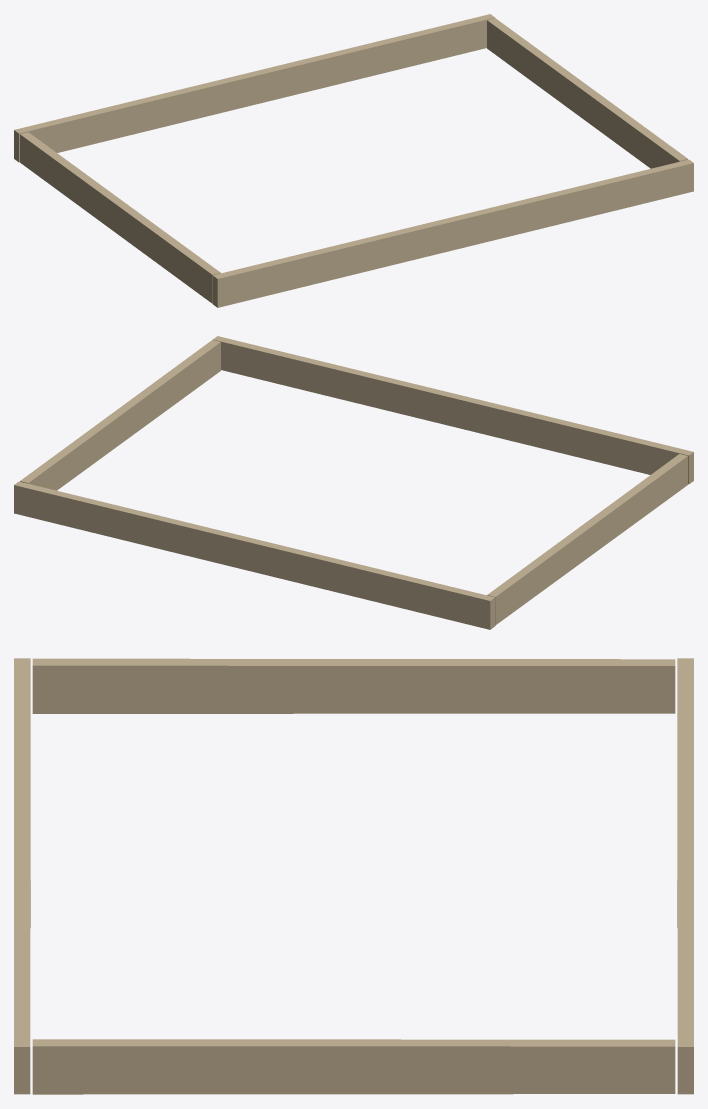
File: parapet.glb
The picture shows the model from 3 angles, top to bottom: view 1: azimuth 30°, elevation 25°; view 2: azimuth 150°, elevation 25°; view 3: azimuth 270°, elevation 25°; orthographic projection. The views are drawn at different scales.
Visible parts, largest first — view 1: WB002V2_Parapet.001; view 2: WB002V2_Parapet.001; view 3: WB002V2_Parapet.001.
Boxes of the visible parts, left/top/right/bottom form: WB002V2_Parapet.001: left=14, top=14, right=693, bottom=307; WB002V2_Parapet.001: left=14, top=336, right=693, bottom=629; WB002V2_Parapet.001: left=14, top=658, right=693, bottom=1094.
Size of the model in its own units: 15.5 by 0.9 by 11.48.
